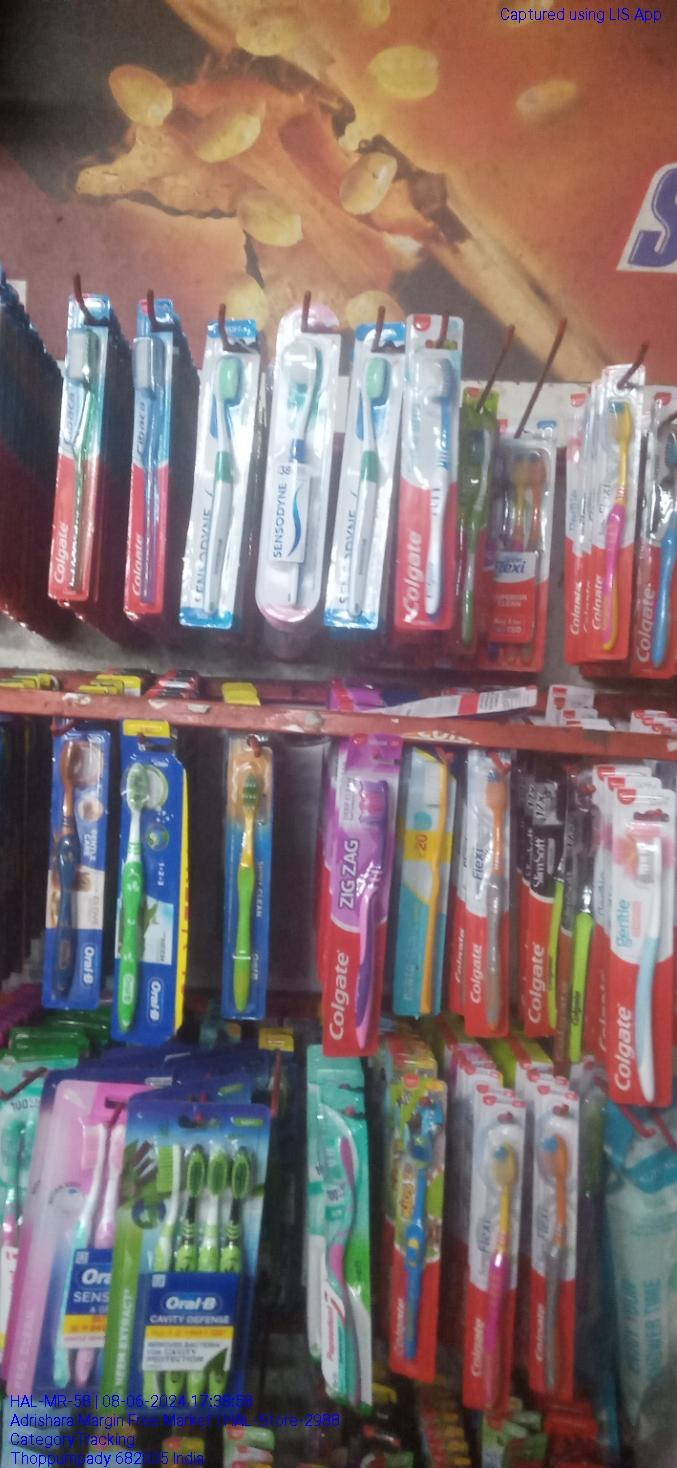soap: (517, 762, 576, 1038)
